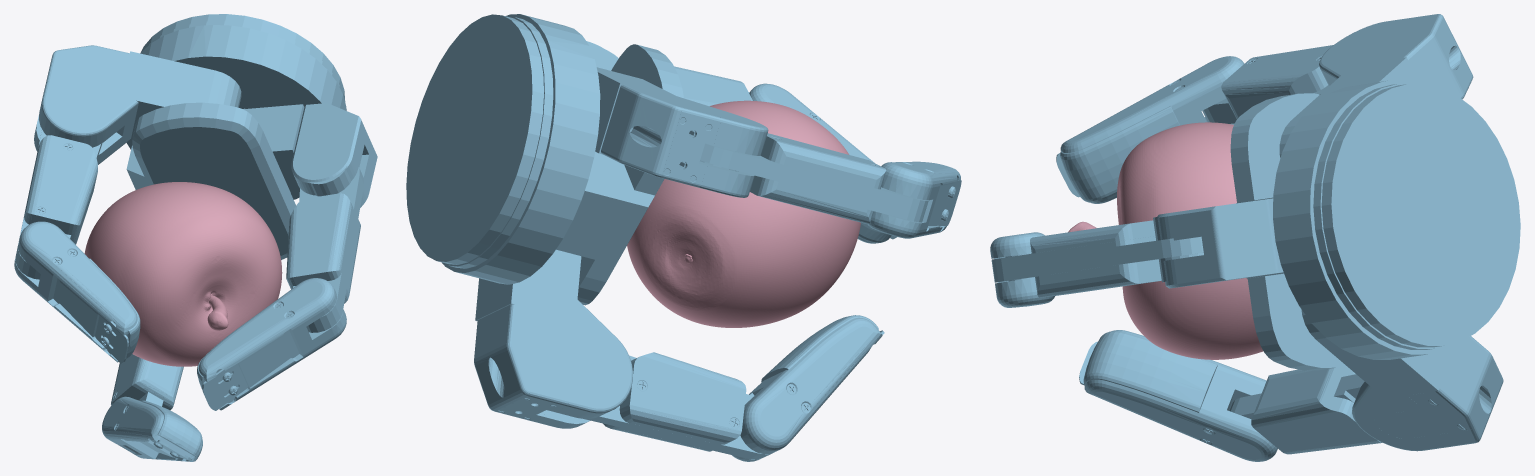
The picture shows the model from 3 angles, left to right: view 1: azimuth 30°, elevation 25°; view 2: azimuth 150°, elevation 25°; view 3: azimuth 270°, elevation 25°; orthographic projection. The views are drawn at different scales.
Visible parts, largest first — view 1: world, apple.stl; view 2: world, apple.stl; view 3: world, apple.stl.
Part boxes in pixels (x1=…): world: x1=14, y1=14, x2=377, y2=461; apple.stl: x1=84, y1=182, x2=282, y2=366; world: x1=406, y1=14, x2=961, y2=461; apple.stl: x1=627, y1=100, x2=860, y2=327; world: x1=990, y1=14, x2=1520, y2=461; apple.stl: x1=1068, y1=122, x2=1263, y2=359.
Size of the model in its own units: 0.1732 by 0.1621 by 0.1706.
